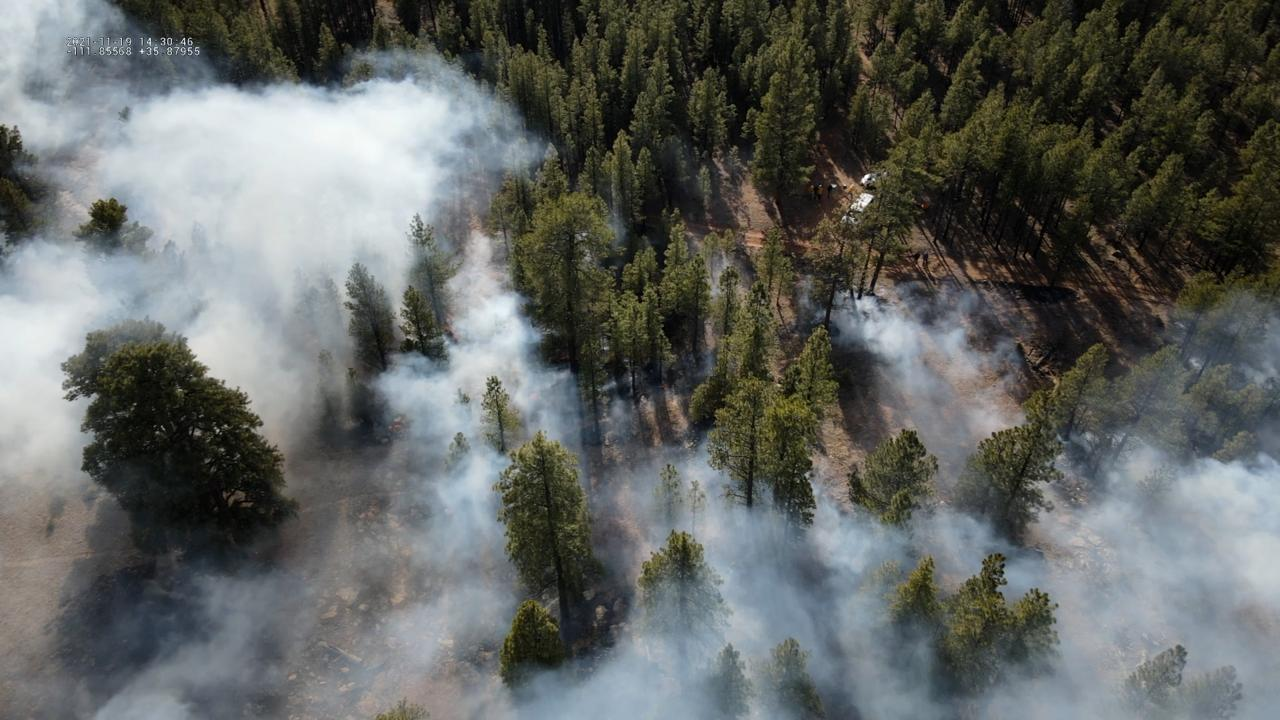fire: (919, 202, 926, 208)
smoke: (0, 0, 1280, 720)
